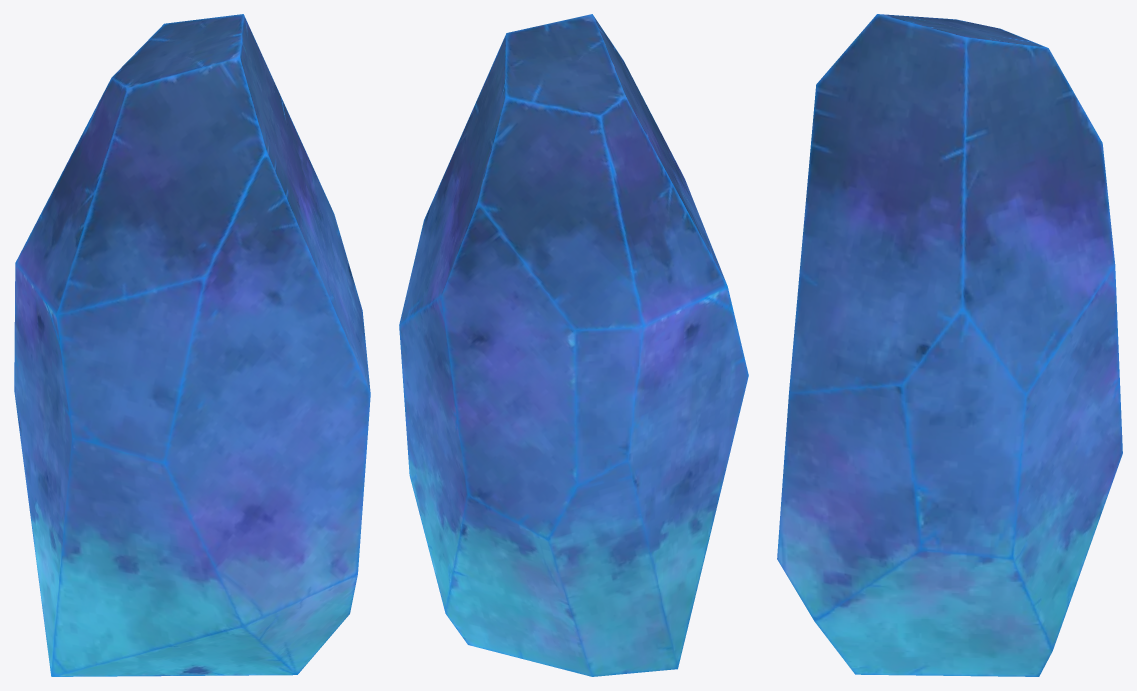
File: moonstone_opt.glb
The picture shows the model from 3 angles, left to right: view 1: azimuth 30°, elevation 25°; view 2: azimuth 150°, elevation 25°; view 3: azimuth 270°, elevation 25°; orthographic projection. The views are drawn at different scales.
Parts seen in each view (by area): view 1: 02_low_01; view 2: 02_low_01; view 3: 02_low_01.
Part boxes in pixels (box(x1,y1,x2,y2)): 02_low_01: box(14, 14, 370, 676); 02_low_01: box(399, 14, 748, 676); 02_low_01: box(777, 14, 1122, 676).
Size of the model in its own units: 0.0094 by 0.0185 by 0.00908.
1 material, 1 textured.
